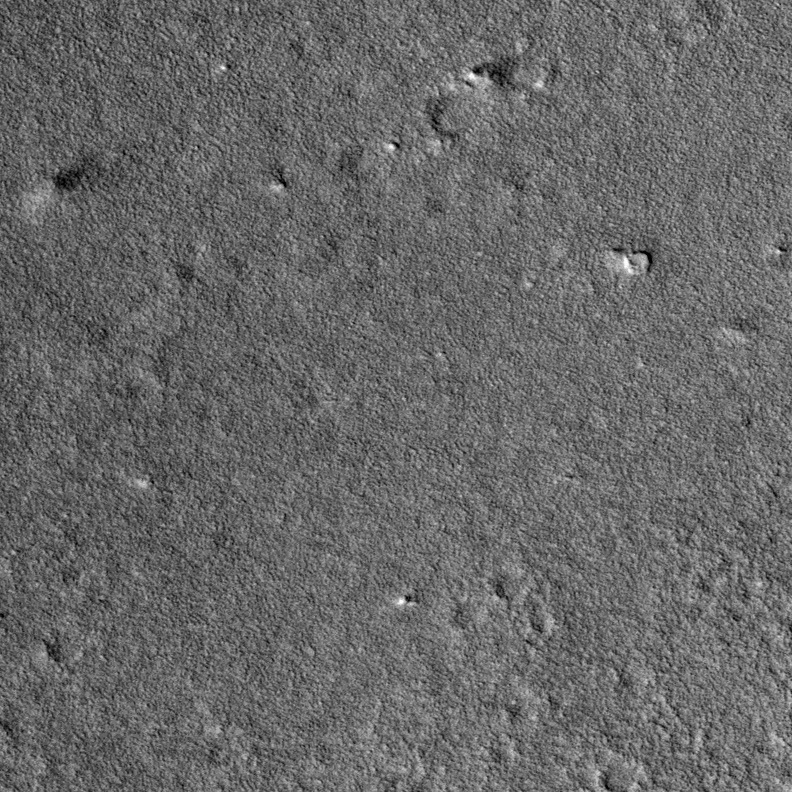dust_devil: (21, 164, 89, 212), (467, 53, 521, 85)
